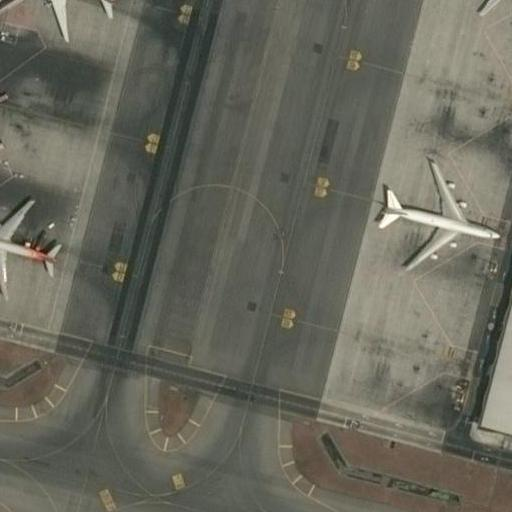Aircraft: (375, 154, 501, 268), (0, 186, 56, 296), (7, 0, 125, 44), (458, 0, 512, 10)
